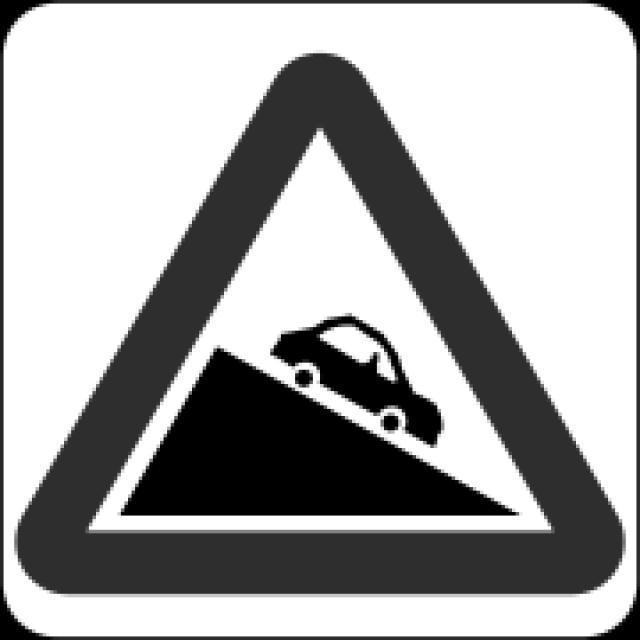steep descent: (27, 51, 618, 586)
